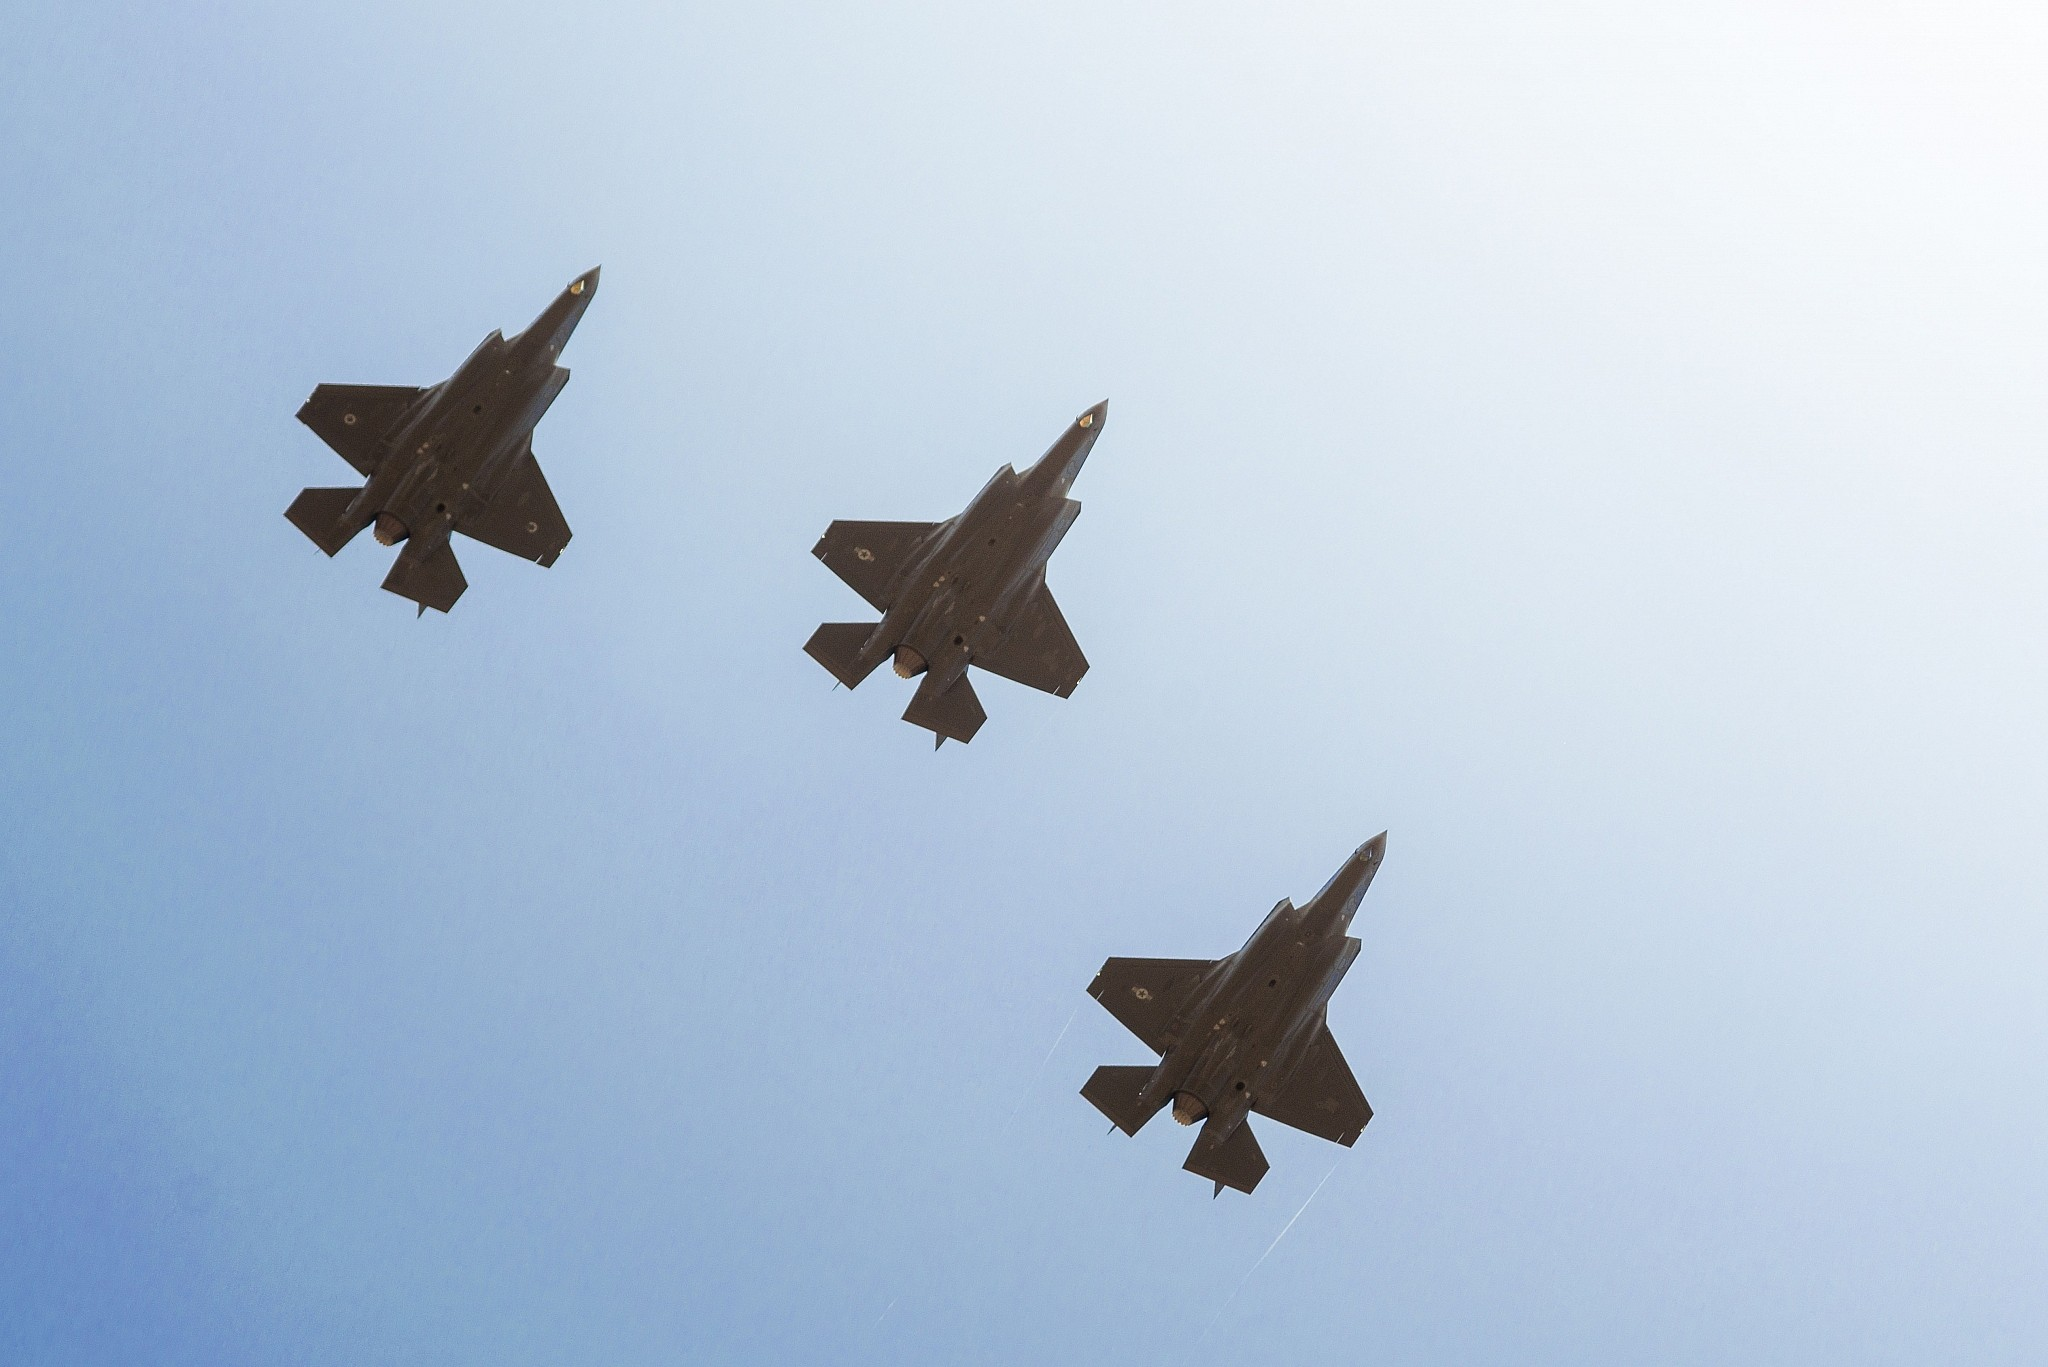F-35 Lightning: (220, 172, 637, 645), (1048, 781, 1459, 1233), (772, 340, 1170, 784)
